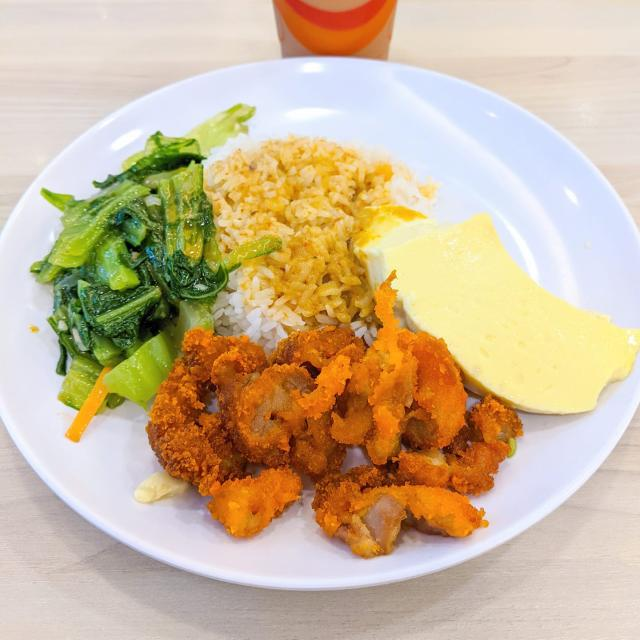Chicken: (146, 273, 522, 557)
Egg: (352, 205, 640, 411)
Green veg: (30, 105, 279, 437)
Rice: (204, 135, 438, 351)
